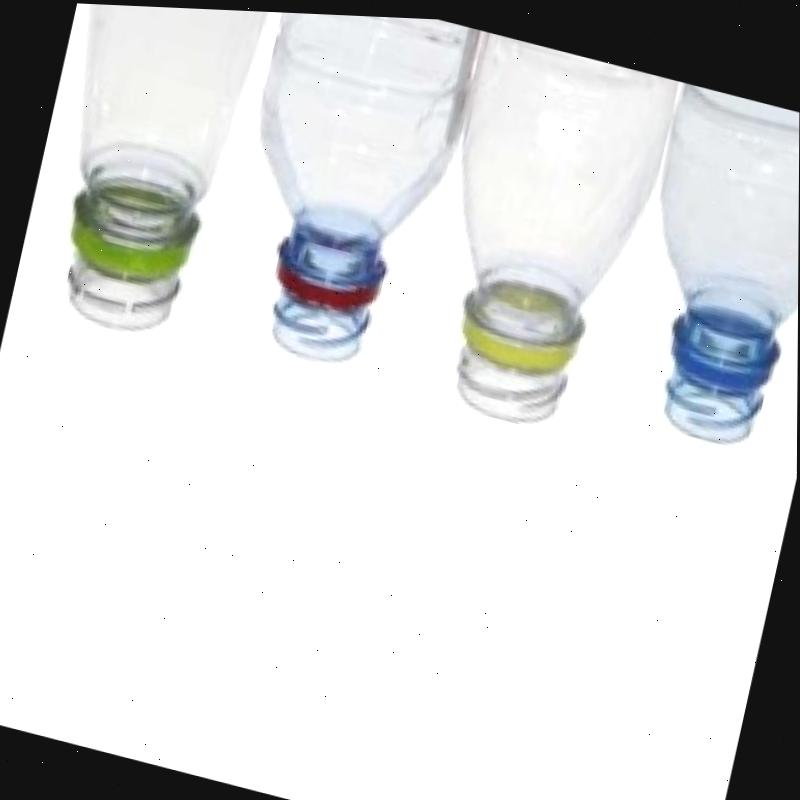botella: (404, 23, 679, 439), (208, 7, 486, 384), (14, 1, 280, 352), (603, 71, 800, 460)
